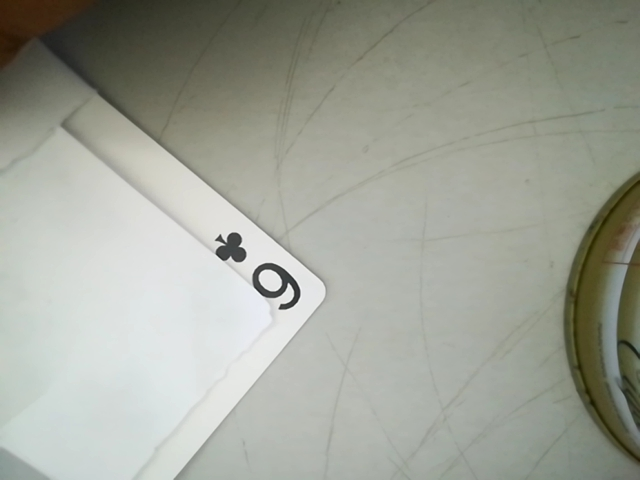mh 6: (211, 219, 308, 314)
